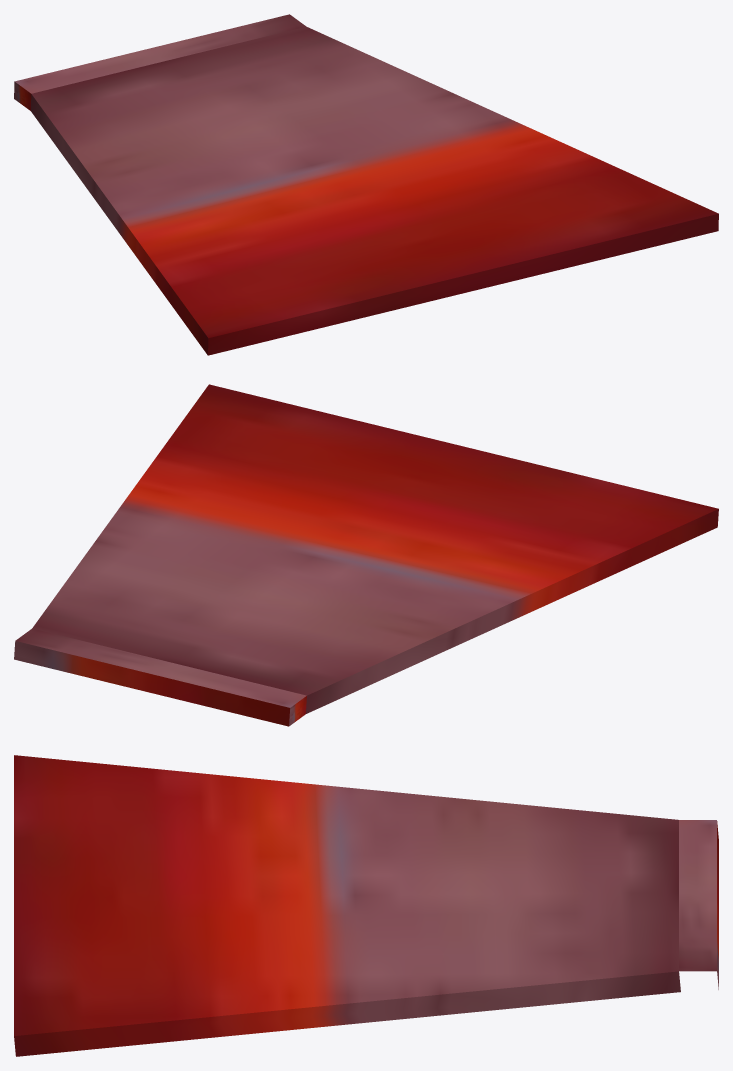
File: UFURMOWANY_METEORYT.glb
3 renders of one model, top to bottom at view 1: azimuth 30°, elevation 25°; view 2: azimuth 150°, elevation 25°; view 3: azimuth 270°, elevation 25°, orthographic. The views are drawn at different scales.
Parts seen in each view (by area): view 1: UFURMOWANY_METEORYT; view 2: UFURMOWANY_METEORYT; view 3: UFURMOWANY_METEORYT.
Part boxes in pixels (left/top/right/bottom): UFURMOWANY_METEORYT: left=14, top=14, right=718, bottom=355; UFURMOWANY_METEORYT: left=14, top=384, right=718, bottom=726; UFURMOWANY_METEORYT: left=14, top=755, right=718, bottom=1056.
Bounding box in the file's own units: 0.2454 × 0.00833 × 0.26.
Materials: 1 (1 with a texture image).
